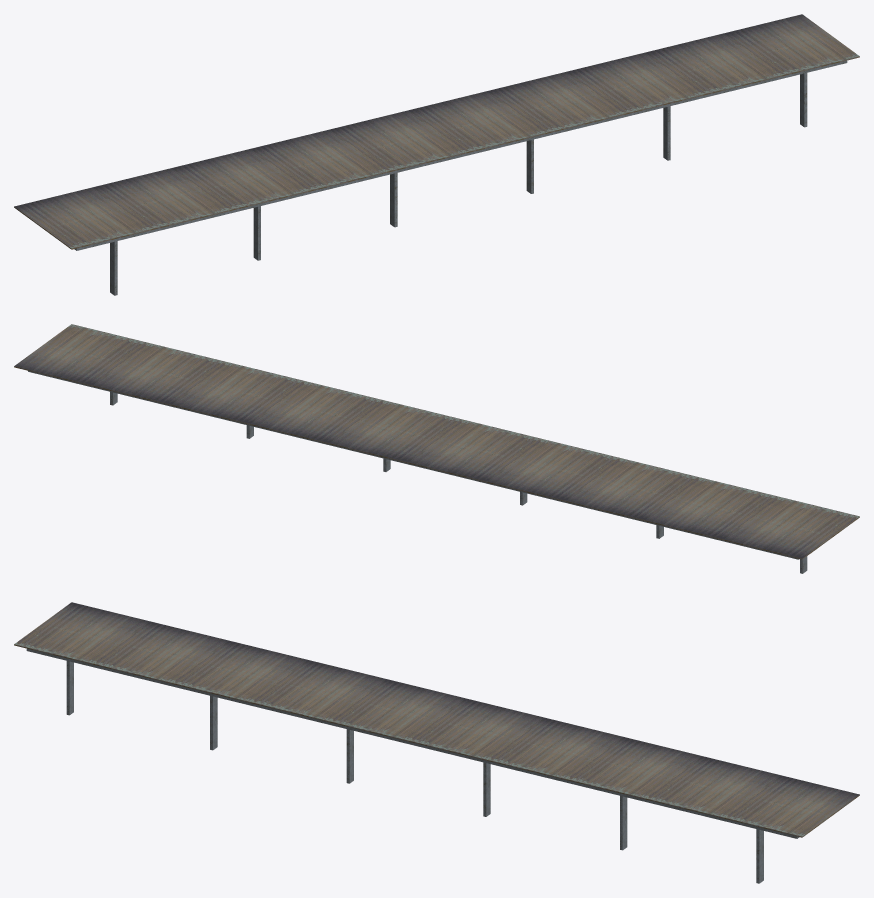
The model's file is vgncarshade1.obj.
3 views of the same model, one above another, from view 1: azimuth 30°, elevation 25°; view 2: azimuth 150°, elevation 25°; view 3: azimuth 330°, elevation 25° (orthographic).
Parts seen in each view (by area): view 1: vgncarshade1; view 2: vgncarshade1; view 3: vgncarshade1.
Part boxes in pixels (box(x1,y1,x2,y2)): vgncarshade1: box(14, 14, 859, 295); vgncarshade1: box(14, 324, 859, 573); vgncarshade1: box(14, 602, 859, 883).
Size of the model in its own units: 40.4 by 3.05 by 5.12.
3 materials, 3 textured.
